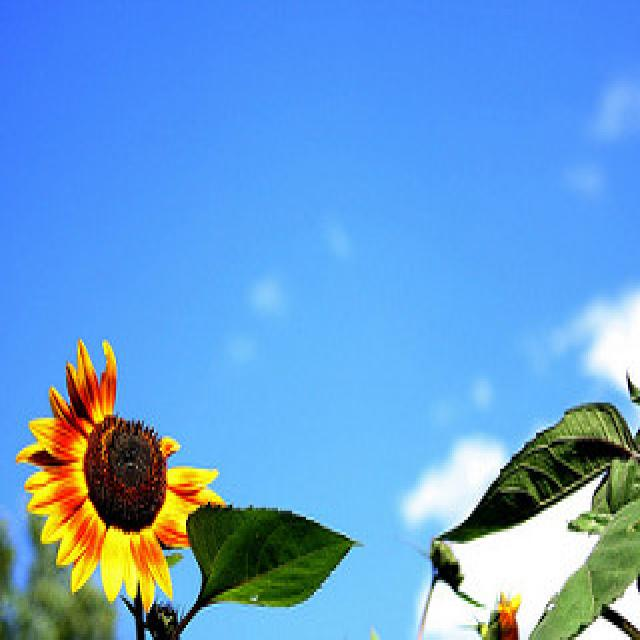sunflower: (17, 332, 227, 617)
